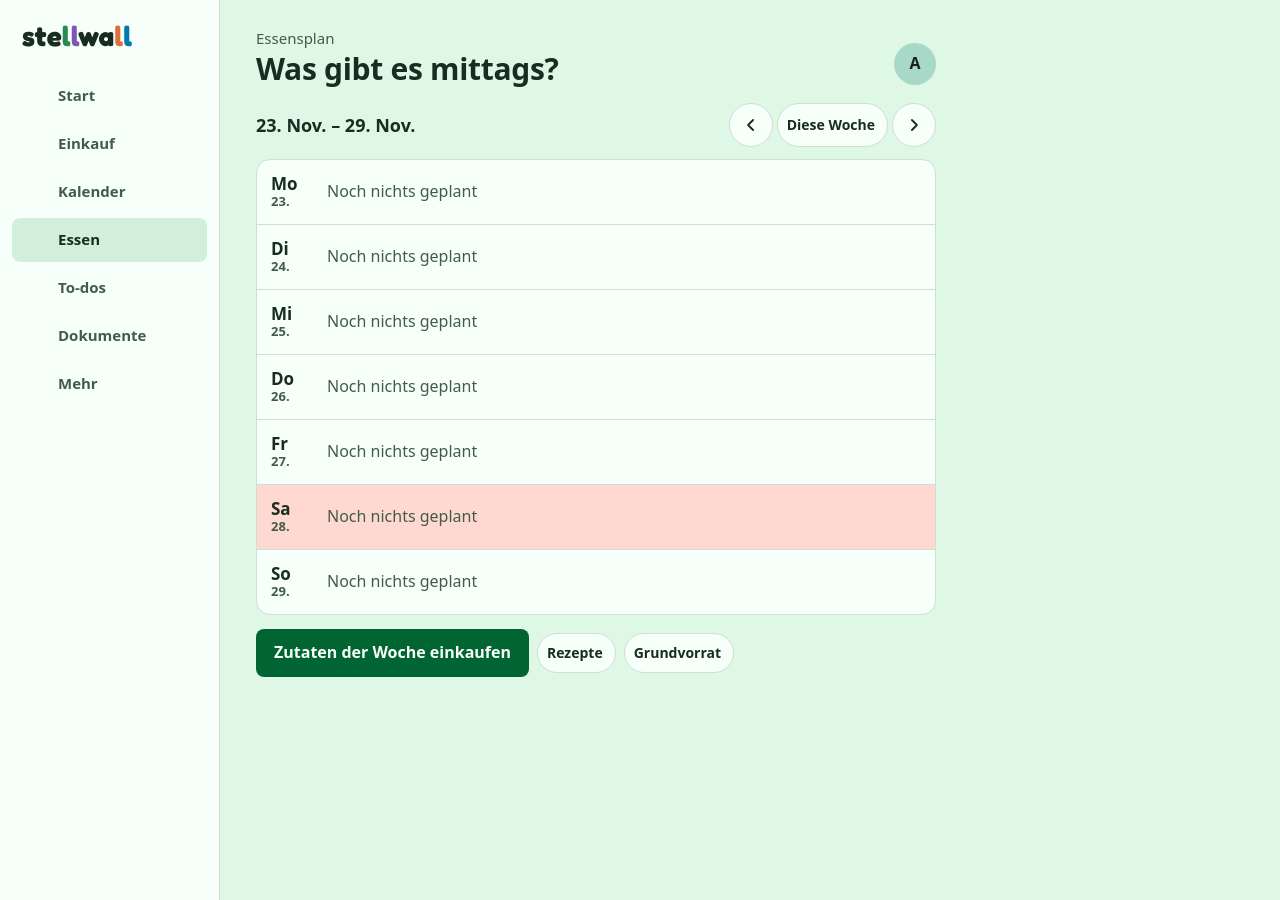
Test case: meal plan page › without Mealie the page says so and free text still works
Click the button "Mo 23. Noch nichts geplant": point(402, 191) [257,160,917,224]
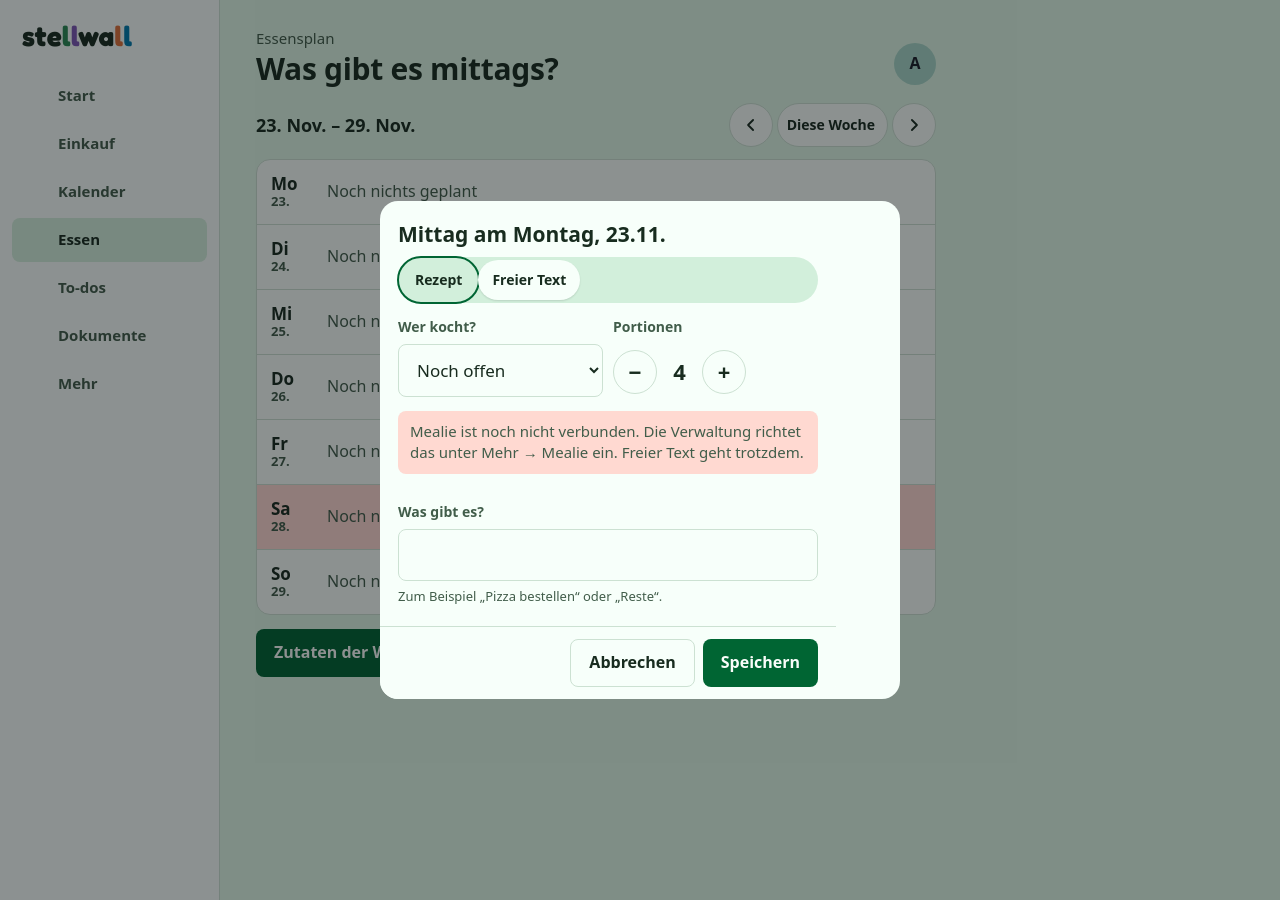
Now the text "Mealie ist noch nicht verbunden. Die Verwaltung richtet das unter Mehr → Mealie ein. Freier Text geht trotzdem." is shown, box [410,421,804,462]
Now the field labelled "Was gibt es?" is shown, box [398,528,818,581]
